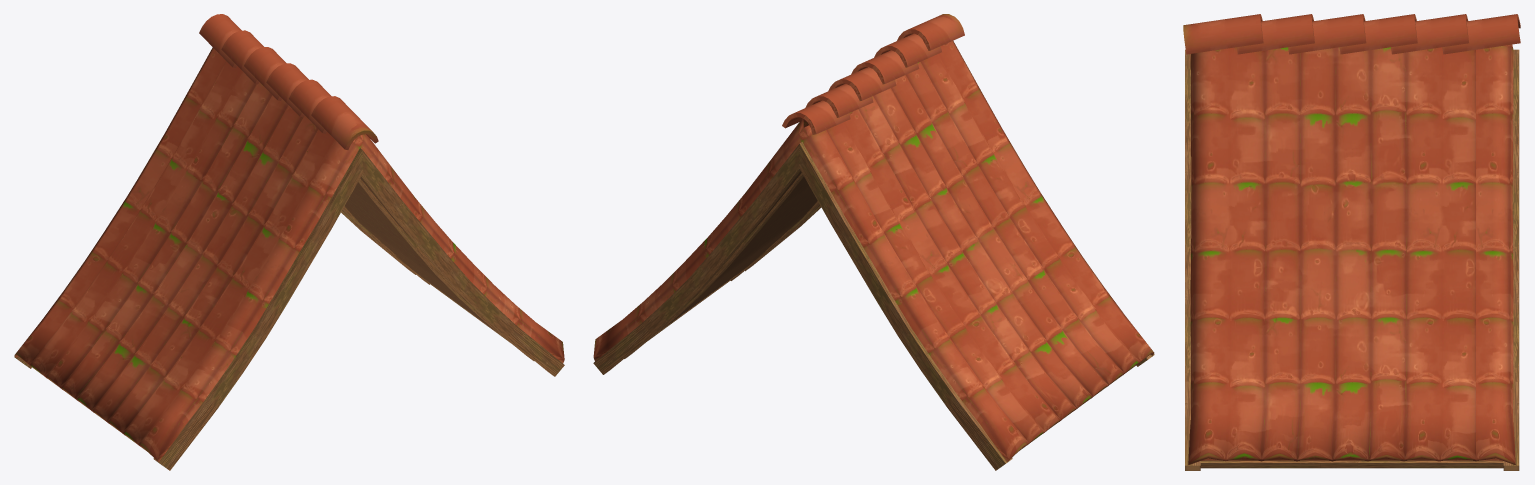
The model's file is Roof_RoundTiles_6x4.gltf.
3 views of the same model, side by side, from view 1: azimuth 30°, elevation 25°; view 2: azimuth 150°, elevation 25°; view 3: azimuth 270°, elevation 25° (orthographic). The views are drawn at different scales.
Parts seen in each view (by area): view 1: Roof_RoundTiles_6x4; view 2: Roof_RoundTiles_6x4; view 3: Roof_RoundTiles_6x4.
Part boxes in pixels (<box>): Roof_RoundTiles_6x4: <box>14,14,564,470</box>; Roof_RoundTiles_6x4: <box>593,14,1154,470</box>; Roof_RoundTiles_6x4: <box>1183,14,1520,470</box>.
Size of the model in its own units: 8.25 by 5.67 by 4.99.
2 materials, 2 textured.
